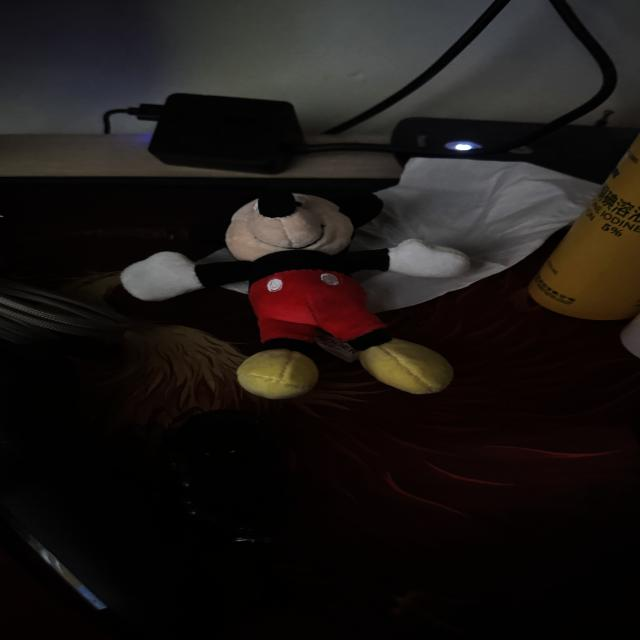mickey: (121, 189, 469, 399)
